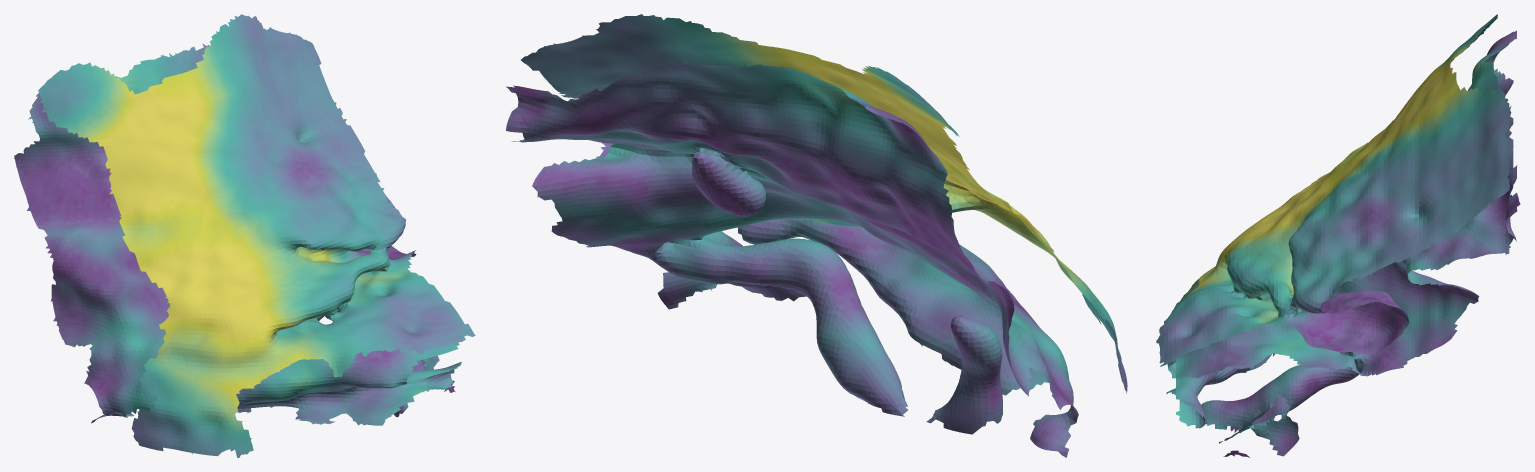
File: crop1150_gap.glb
The picture shows the model from 3 angles, left to right: view 1: azimuth 30°, elevation 25°; view 2: azimuth 150°, elevation 25°; view 3: azimuth 270°, elevation 25°; orthographic projection. The views are drawn at different scales.
Parts seen in each view (by area): view 1: world; view 2: world; view 3: world.
Part boxes in pixels (x1,y1,x2,y2): world: (14, 14, 475, 457); world: (506, 14, 1127, 457); world: (1156, 14, 1520, 457).
Size of the model in its own units: 1534 by 1434 by 1487.
